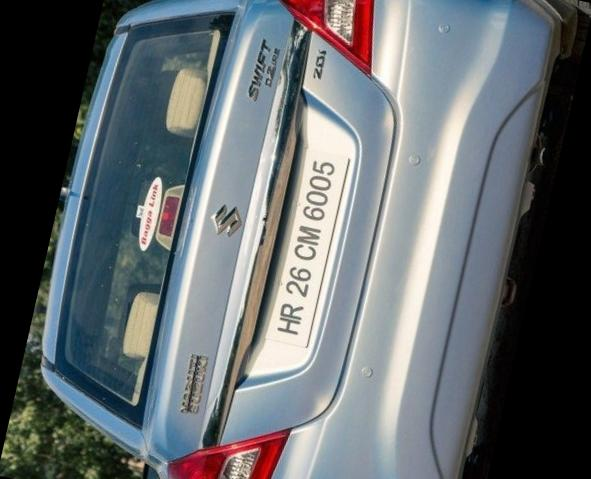plate: (248, 132, 374, 365)
